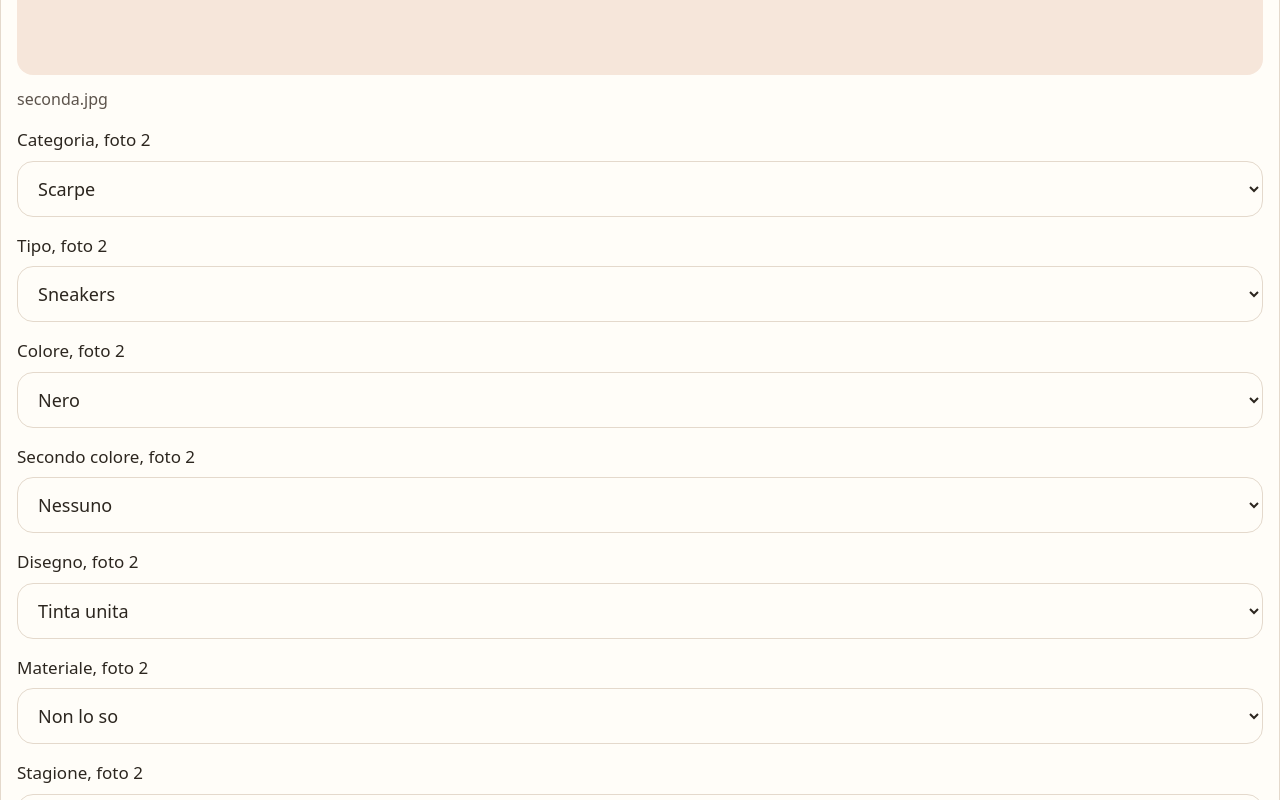
Test: guardaroba › riconosce tante foto e le salva solo dopo la conferma
Earlier steps of the test are not shown.
Later steps or results of the test are not shown.
(page scrolled)
Expected: the dropdown labelled "Categoria, foto 2" shows "Scarpe", [17, 161, 1263, 217]
Select "Bianco" in the dropdown labelled "Colore, foto 2" at (640, 400), box [17, 372, 1263, 428]
(page scrolled)
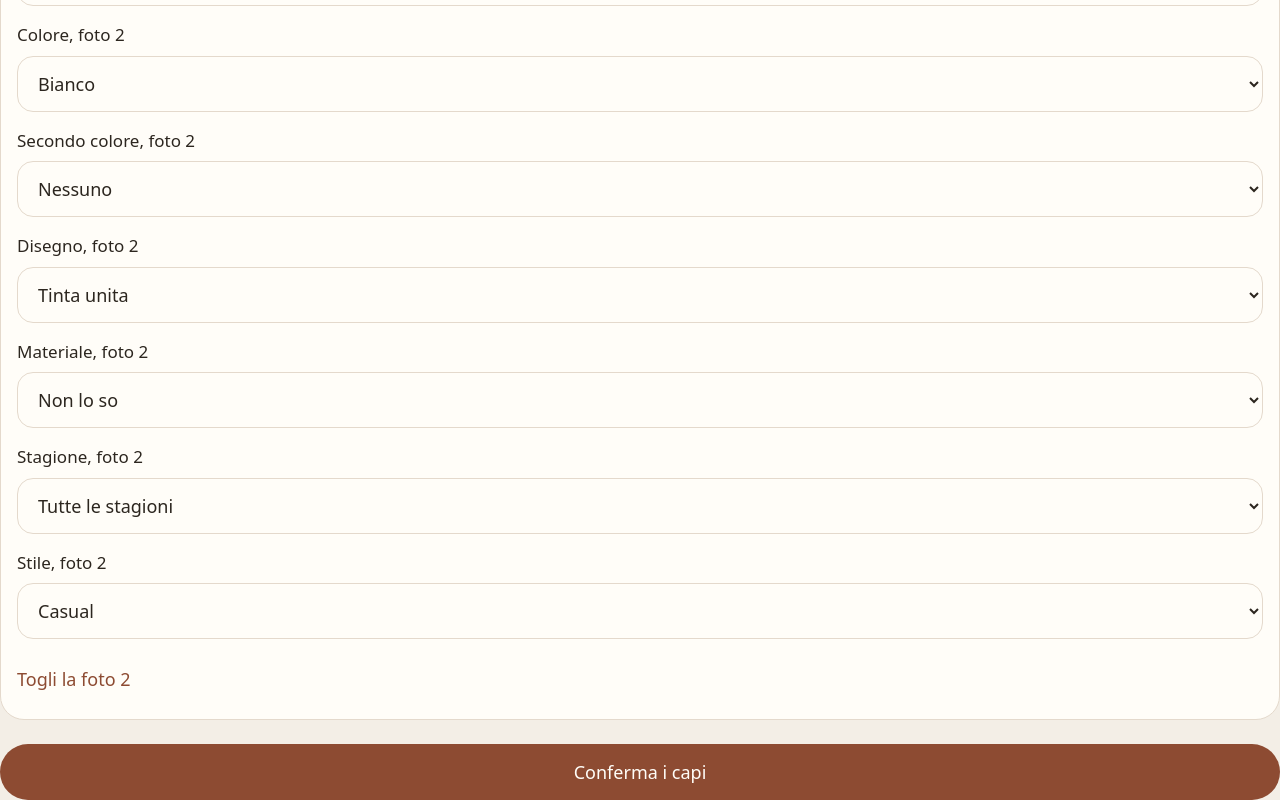
Click the button "Conferma i capi" at (640, 772), box [0, 744, 1279, 799]
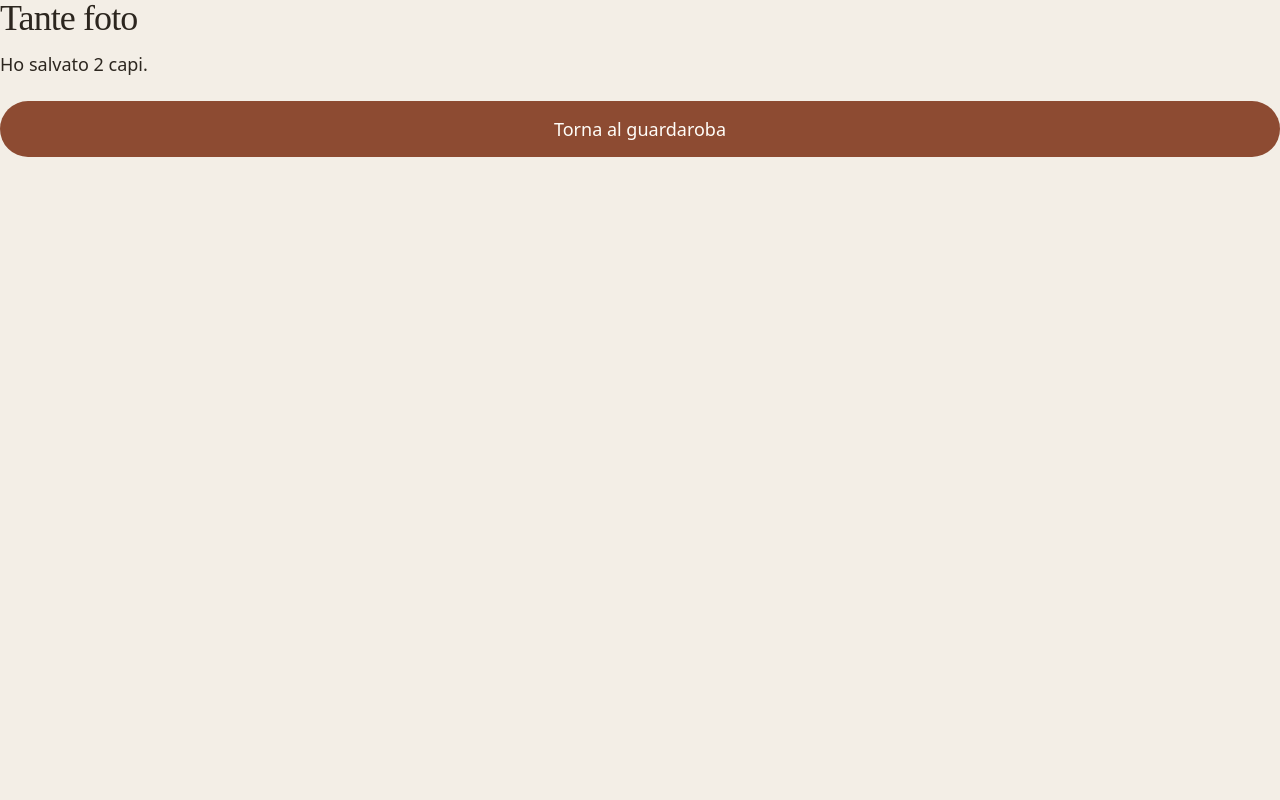
Now the text "Ho salvato 2 capi." is shown, box [0, 52, 148, 76]
